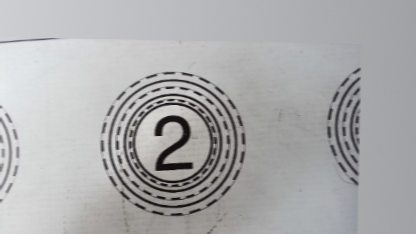2r: (97, 70, 248, 217)
